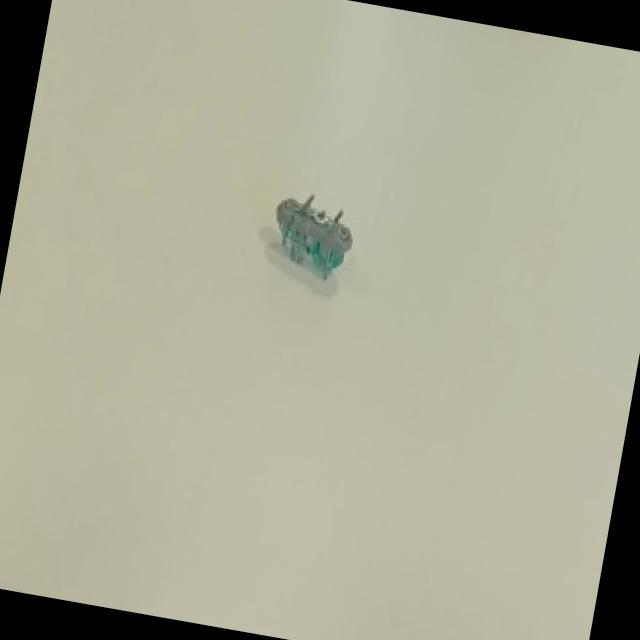5_NanoBug_GrisClaro: (244, 168, 370, 312)
